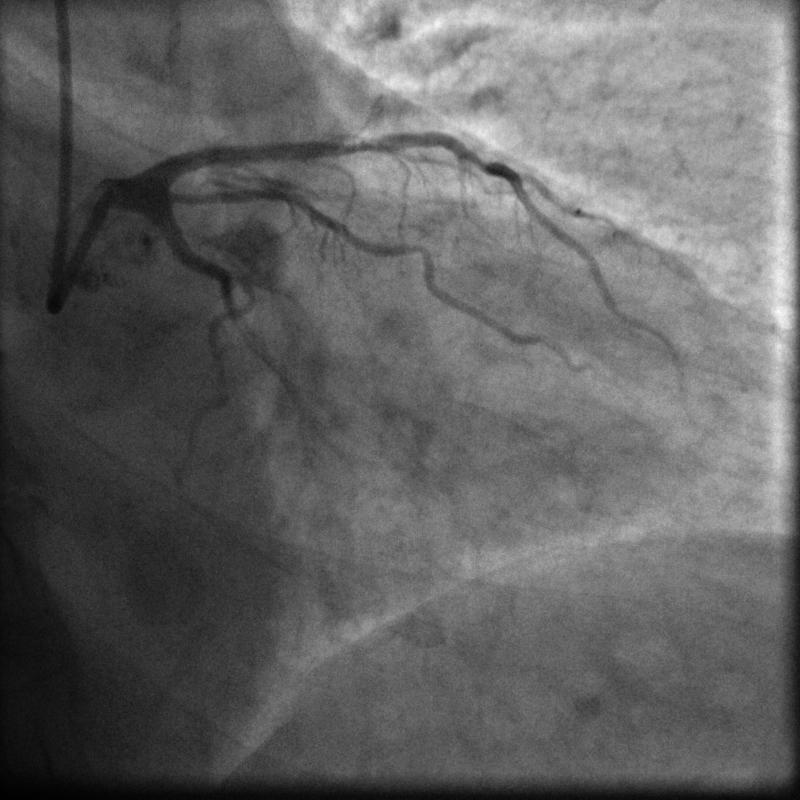Stenosis: (333, 130, 392, 155)
